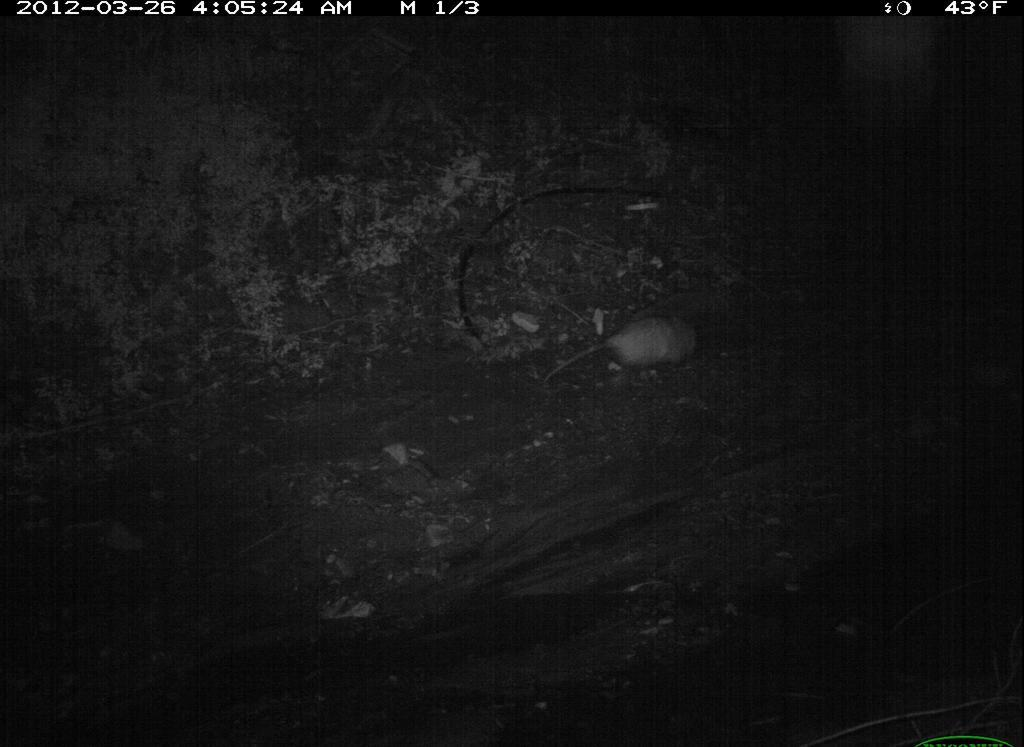opossum: (529, 314, 712, 400)
